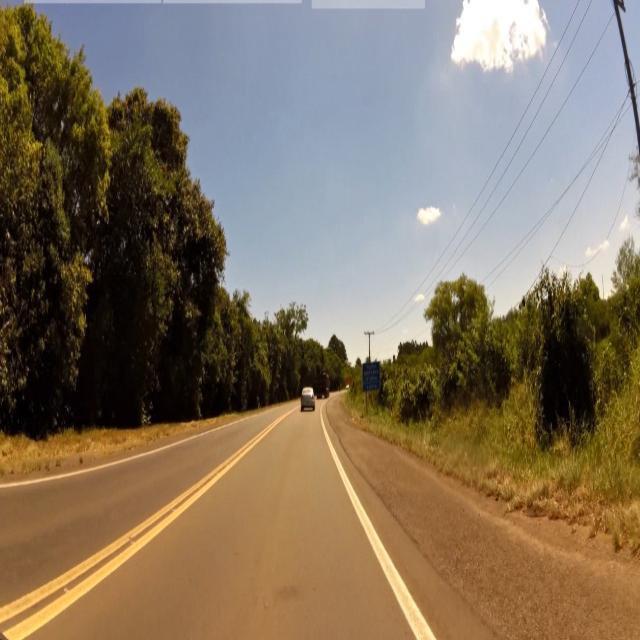LOC-6: (361, 360, 383, 392)
